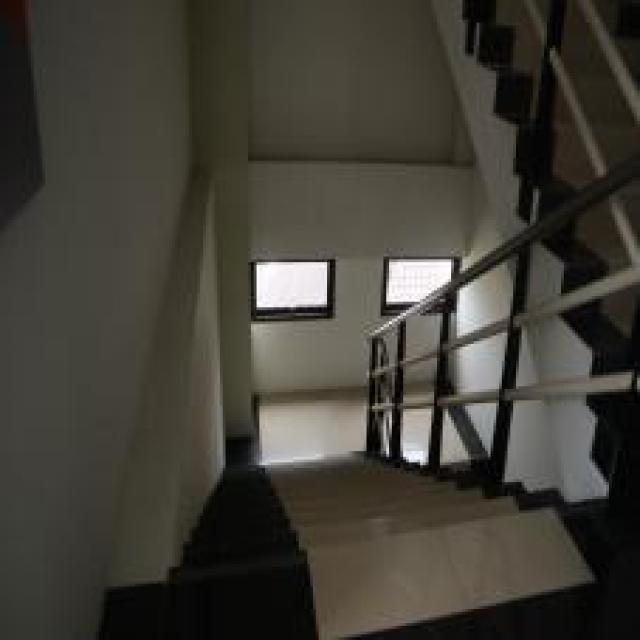downstair: (215, 464, 458, 639)
